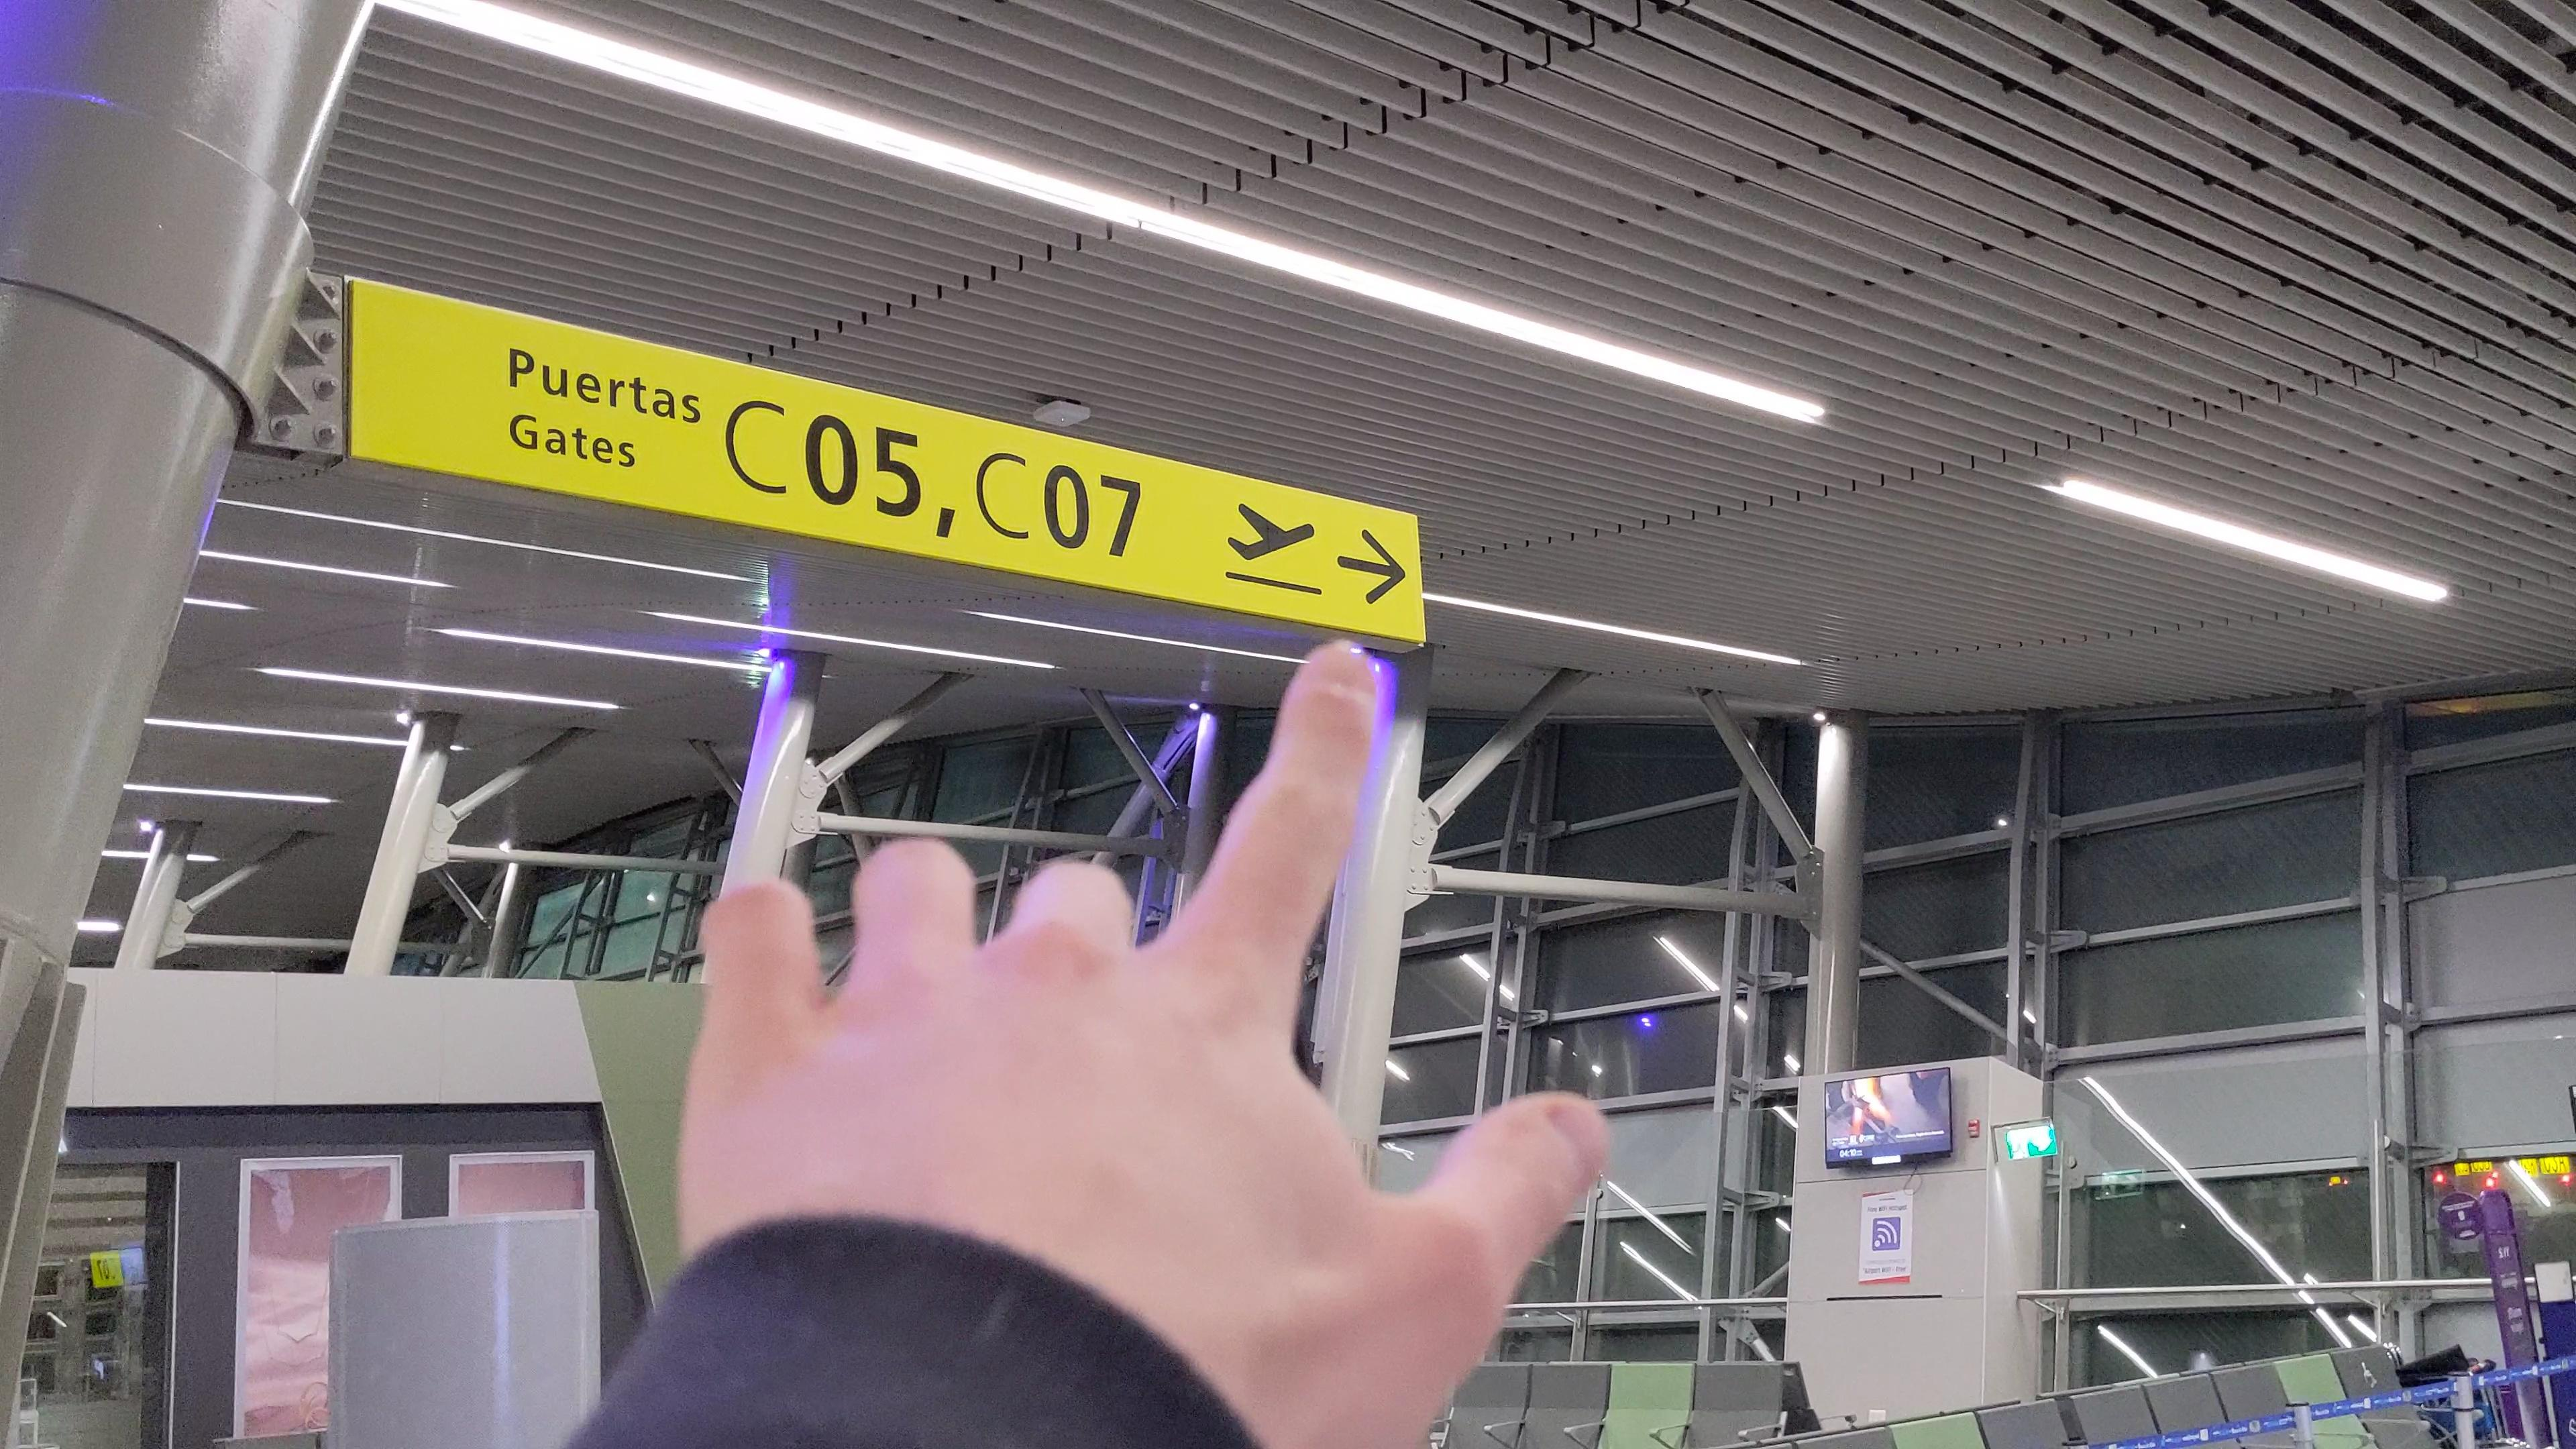airplane symbol: (1224, 499, 1322, 570)
emergency exit: (2100, 1175, 2118, 1200)
emergency right arrow: (2118, 1171, 2141, 1194)
thin right arrow: (1334, 524, 1410, 609)
